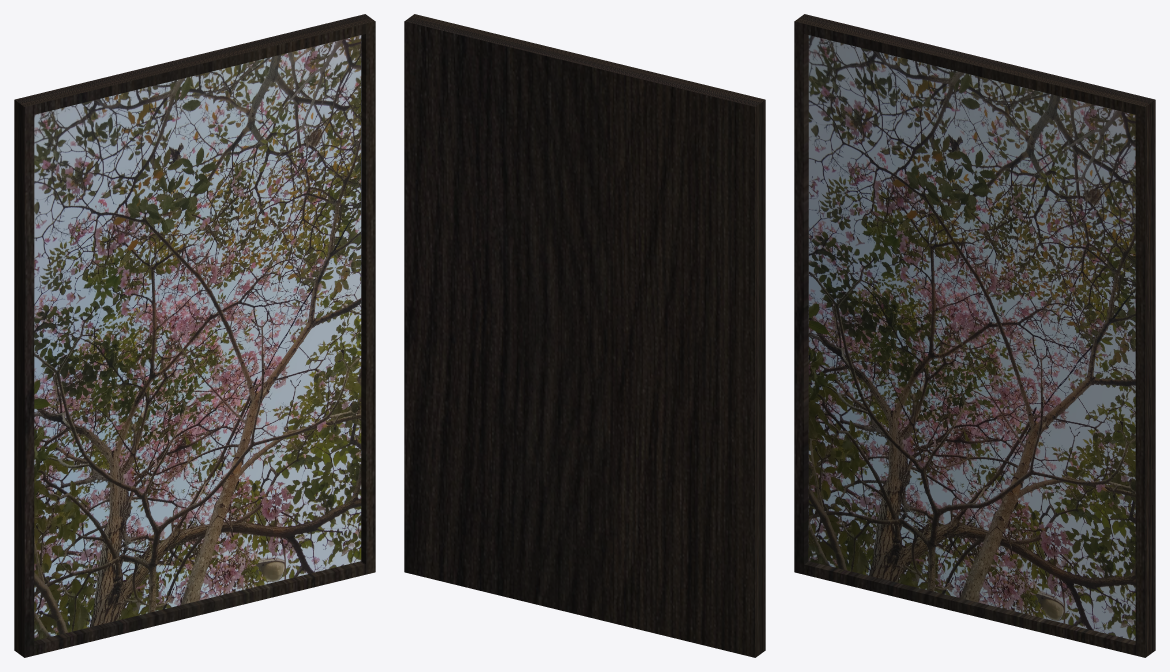
The model's file is foto ruang tengah 2.fbx.
The picture shows the model from 3 angles, left to right: view 1: azimuth 30°, elevation 25°; view 2: azimuth 150°, elevation 25°; view 3: azimuth 330°, elevation 25°; orthographic projection.
Parts seen in each view (by area): view 1: Cube.036, Cube.026; view 2: Cube.026; view 3: Cube.036, Cube.026.
Part boxes in pixels (<box>): Cube.036: <box>34,35,361,640</box>; Cube.026: <box>14,14,375,657</box>; Cube.026: <box>404,14,765,657</box>; Cube.036: <box>808,35,1135,640</box>; Cube.026: <box>794,14,1155,657</box>.
Bounding box in the file's own units: 200 × 300 × 10.
2 materials, 2 textured.
